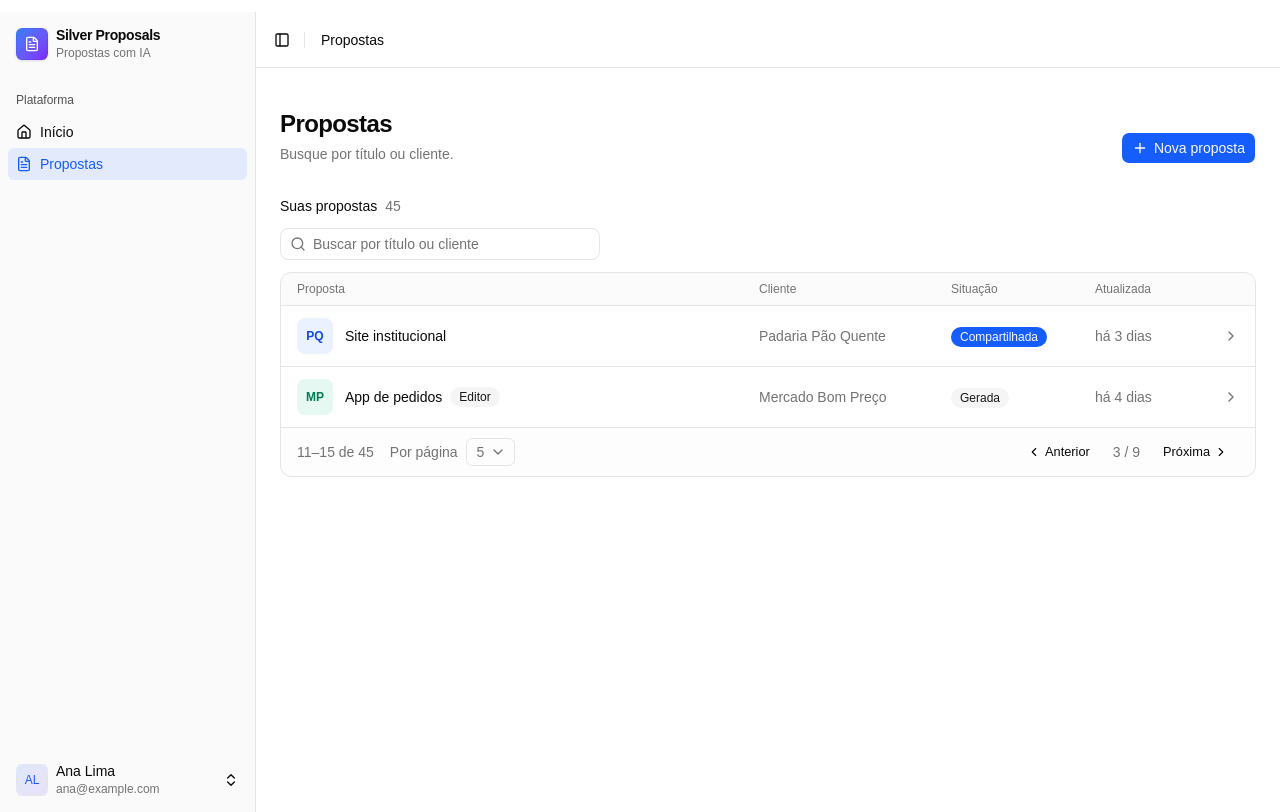
Scenario: ProposalsPage › changes the page size and starts again from the first page
Expected: the text "11–15 de 45" is shown, [297, 442, 374, 462]
Click the dropdown named "Propostas por página".
click(490, 452)  # box [466, 438, 515, 466]
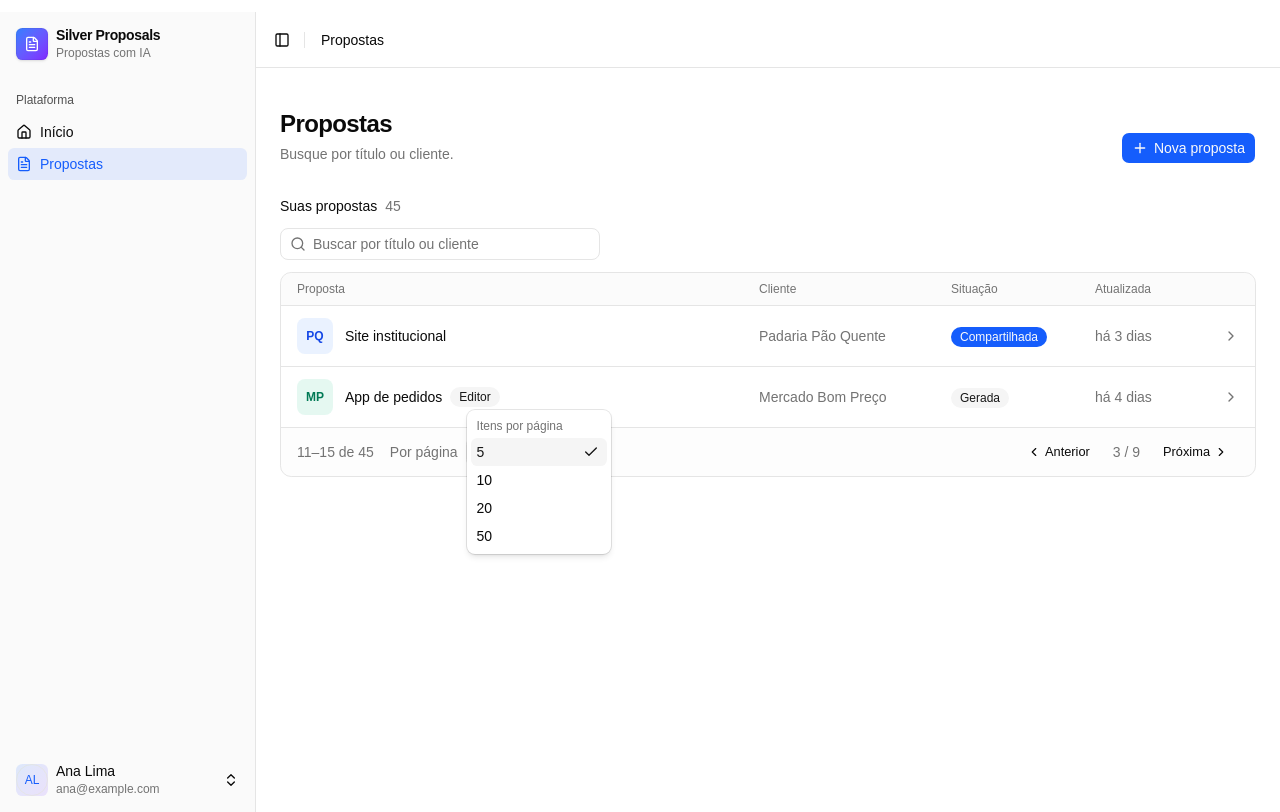
Click the option "20".
click(484, 508)  # box [477, 500, 492, 516]
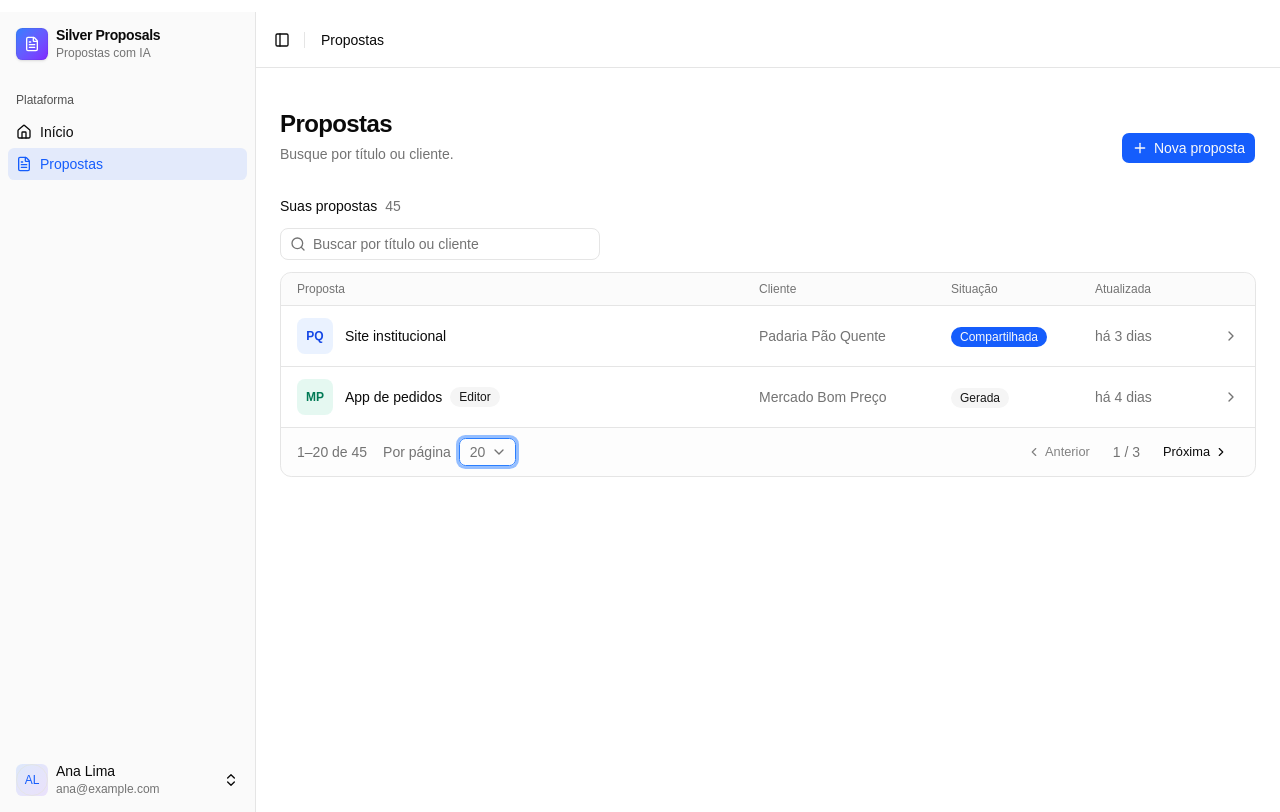
Expected: the text "1–20 de 45" is shown, [297, 442, 367, 462]
